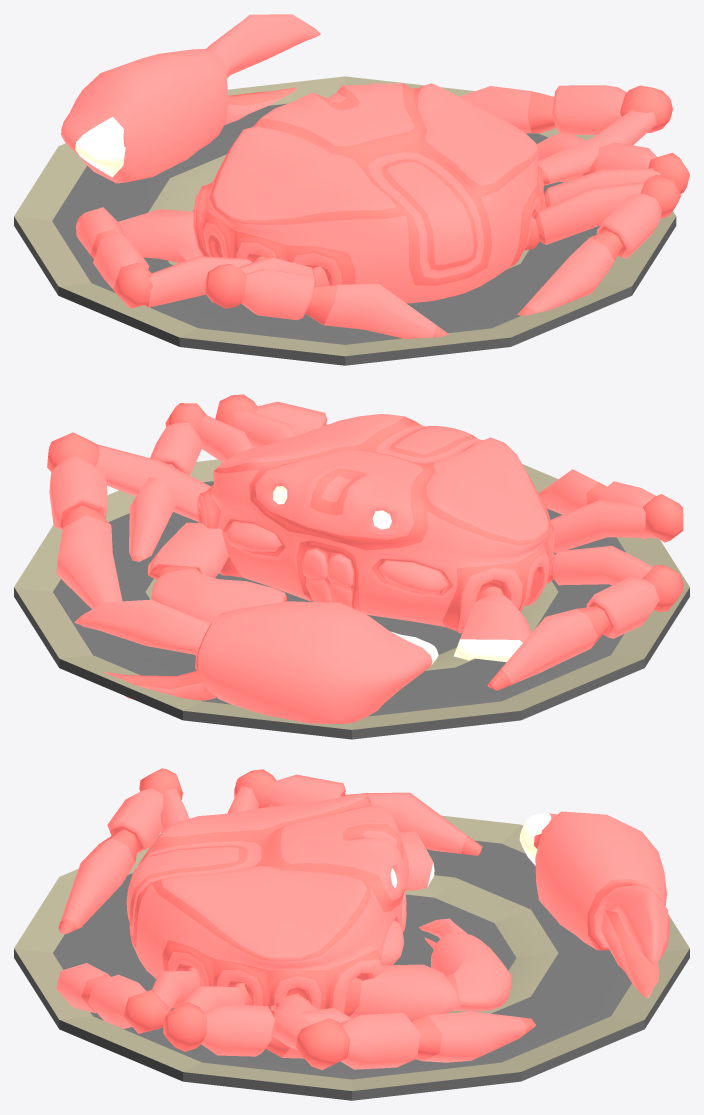
File: CrabDinner.fbx
3 views of the same model, one above another, from view 1: azimuth 30°, elevation 25°; view 2: azimuth 150°, elevation 25°; view 3: azimuth 270°, elevation 25° (orthographic). The views are drawn at different scales.
Parts seen in each view (by area): view 1: pasted__hotBod, pasted__Plate, pasted__rightGripper, pasted__rearLeftLower, pasted__frontRightLower, pasted__rearRightLower, pasted__midLeftLower, pasted__rrUpper, pasted__rShoulder, pasted__frUpper, pasted__midRightLower, pasted__mlLower (+2 smaller); view 2: pasted__hotBod, pasted__Plate, pasted__rightGripper, pasted__frontRightLower, pasted__midLeftLower, pasted__midRightLower, pasted__polySurface3, pasted__rearLeftLower, pasted__rShoulder, pasted__frUpper, pasted__rlUpper, pasted__mlLower (+4 smaller); view 3: pasted__Plate, pasted__hotBod, pasted__rightGripper, pasted__frontRightLower, pasted__rearLeftLower, pasted__midLeftLower, pasted__midRightLower, pasted__polySurface3, pasted__upperArm, pasted__rearRightLower, pasted__frUpper, pasted__rShoulder (+4 smaller).
Part boxes in pixels (left/top/right/bottom): pasted__hotBod: left=193, top=83, right=543, bottom=303; pasted__Plate: left=14, top=76, right=676, bottom=365; pasted__rightGripper: left=61, top=14, right=320, bottom=183; pasted__rearLeftLower: left=204, top=264, right=448, bottom=338; pasted__frontRightLower: left=459, top=85, right=672, bottom=135; pasted__rearRightLower: left=517, top=175, right=680, bottom=315; pasted__midLeftLower: left=76, top=207, right=152, bottom=308; pasted__rrUpper: left=524, top=182, right=644, bottom=250; pasted__rShoulder: left=118, top=209, right=201, bottom=263; pasted__frUpper: left=538, top=109, right=658, bottom=185; pasted__midRightLower: left=537, top=132, right=689, bottom=193; pasted__mlLower: left=143, top=256, right=264, bottom=307; pasted__hotBod: left=197, top=414, right=554, bottom=633; pasted__Plate: left=14, top=459, right=689, bottom=739; pasted__rightGripper: left=74, top=599, right=438, bottom=723; pasted__frontRightLower: left=47, top=432, right=122, bottom=608; pasted__midLeftLower: left=487, top=565, right=683, bottom=690; pasted__midRightLower: left=129, top=403, right=206, bottom=561; pasted__polySurface3: left=151, top=566, right=286, bottom=622; pasted__rearLeftLower: left=538, top=469, right=683, bottom=542; pasted__rShoulder: left=454, top=586, right=531, bottom=662; pasted__frUpper: left=95, top=444, right=211, bottom=521; pasted__rlUpper: left=550, top=500, right=657, bottom=553; pasted__mlLower: left=547, top=545, right=653, bottom=585; pasted__Plate: left=14, top=815, right=689, bottom=1100; pasted__hotBod: left=126, top=793, right=408, bottom=1016; pasted__rightGripper: left=519, top=811, right=669, bottom=998; pasted__frontRightLower: left=296, top=1011, right=535, bottom=1069; pasted__rearLeftLower: left=58, top=768, right=182, bottom=933; pasted__midLeftLower: left=234, top=769, right=482, bottom=855; pasted__midRightLower: left=163, top=1002, right=351, bottom=1058; pasted__polySurface3: left=419, top=918, right=511, bottom=1011; pasted__upperArm: left=344, top=964, right=459, bottom=1020; pasted__rearRightLower: left=56, top=963, right=170, bottom=1033; pasted__frUpper: left=270, top=993, right=317, bottom=1050; pasted__rShoulder: left=400, top=831, right=434, bottom=890.
Size of the model in its own units: 0.4936 by 0.1132 by 0.4753.
